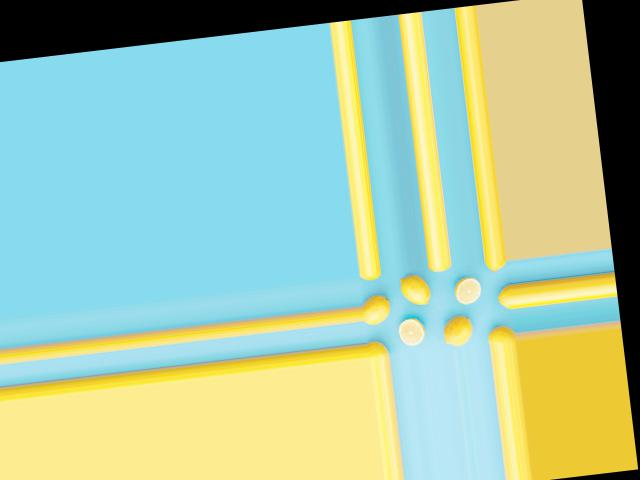lemon: (365, 336, 392, 358)
